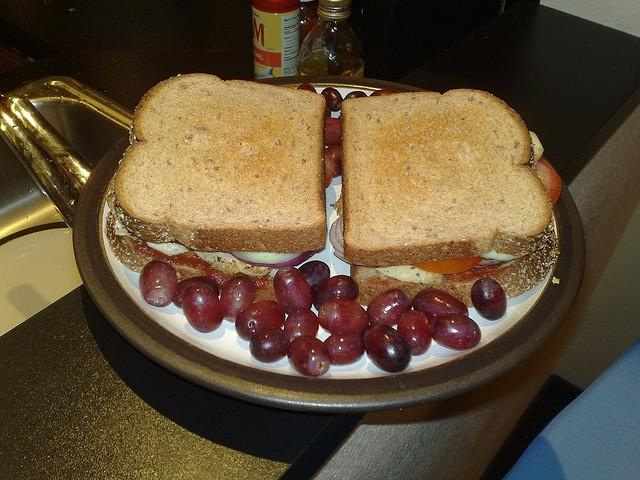grape: (365, 324, 412, 373), (235, 300, 286, 342), (413, 287, 469, 324), (272, 266, 314, 314), (182, 283, 223, 332), (431, 313, 482, 351), (318, 298, 369, 335), (287, 336, 331, 377), (312, 274, 359, 312), (142, 259, 178, 308), (220, 274, 256, 323), (366, 290, 413, 327), (172, 276, 220, 309), (398, 310, 432, 356), (324, 330, 367, 366), (250, 327, 291, 364), (471, 278, 507, 320), (284, 308, 319, 343), (298, 260, 330, 289), (324, 117, 342, 146), (343, 91, 368, 100), (369, 89, 398, 96)
onion: (330, 217, 386, 268), (228, 250, 318, 270), (336, 213, 344, 248), (477, 259, 505, 265)
tomato: (409, 256, 484, 275), (534, 158, 562, 206)
